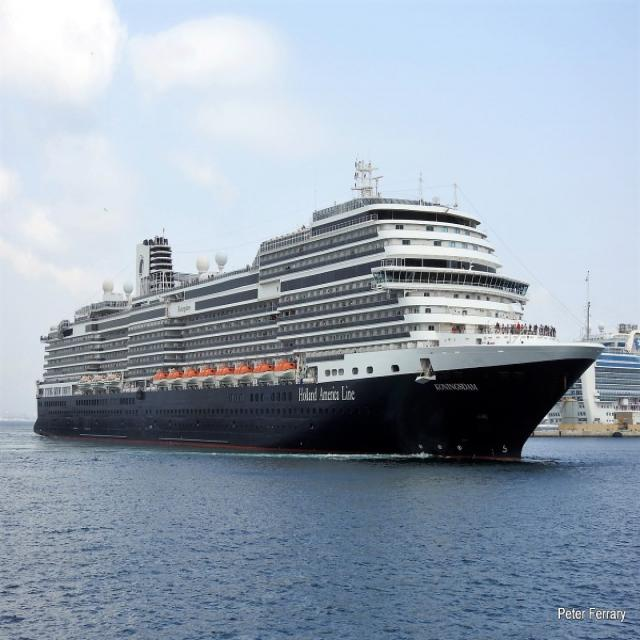cruises: (31, 162, 610, 476)
